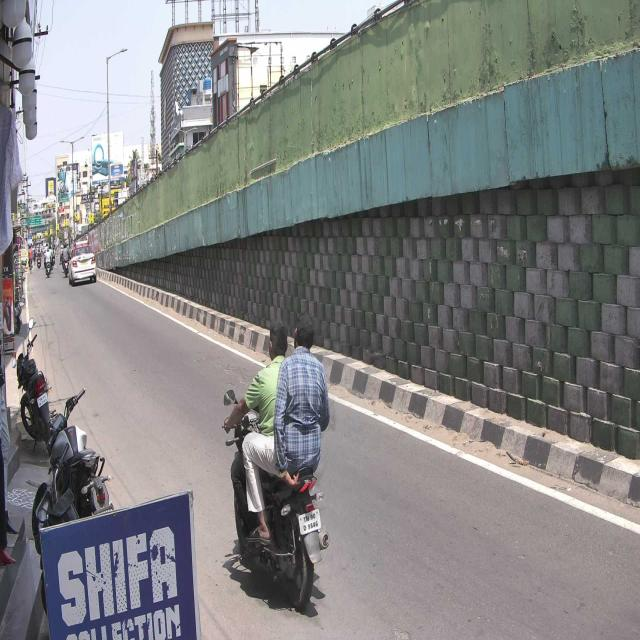double_rider: (222, 310, 330, 612)
